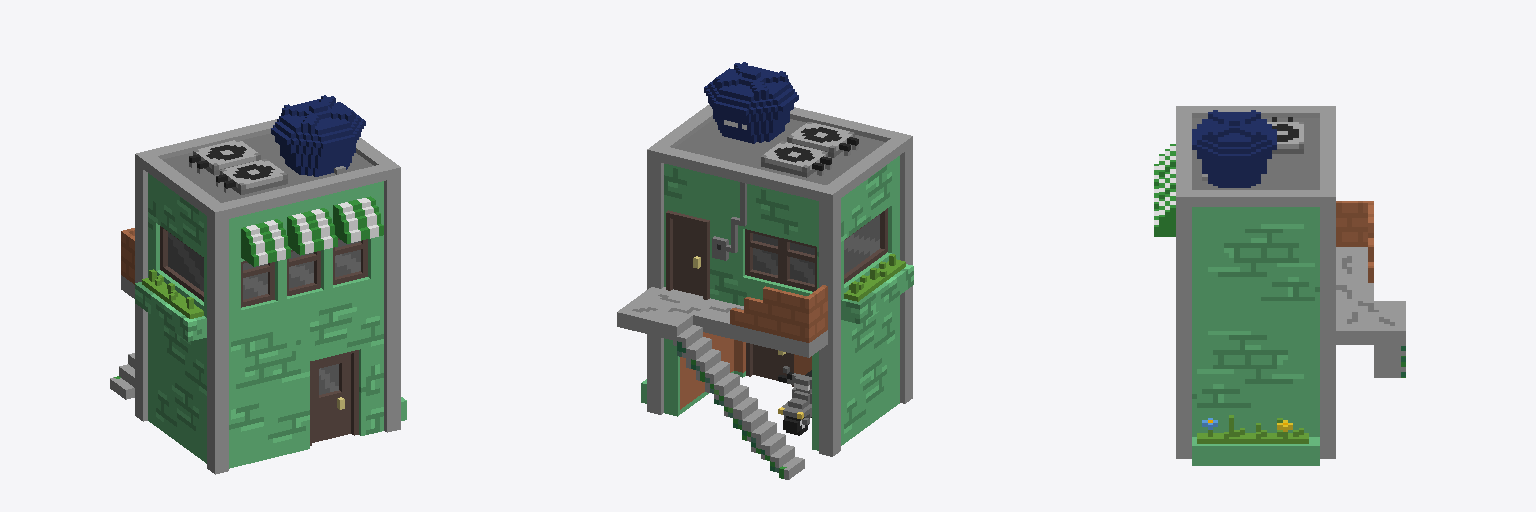
3 views of the same model, side by side, from view 1: azimuth 30°, elevation 25°; view 2: azimuth 150°, elevation 25°; view 3: azimuth 270°, elevation 25° (orthographic).
Parts seen in each view (by area): view 1: object 1; view 2: object 1; view 3: object 1.
Boxes of the visible parts, box(x1,y1,x2,y2) form: object 1: box(110, 95, 406, 474); object 1: box(617, 62, 913, 479); object 1: box(1154, 106, 1405, 465).
Bounding box in the file's own units: 4.6 × 6.5 × 4.7.
1 materials, 1 textured.